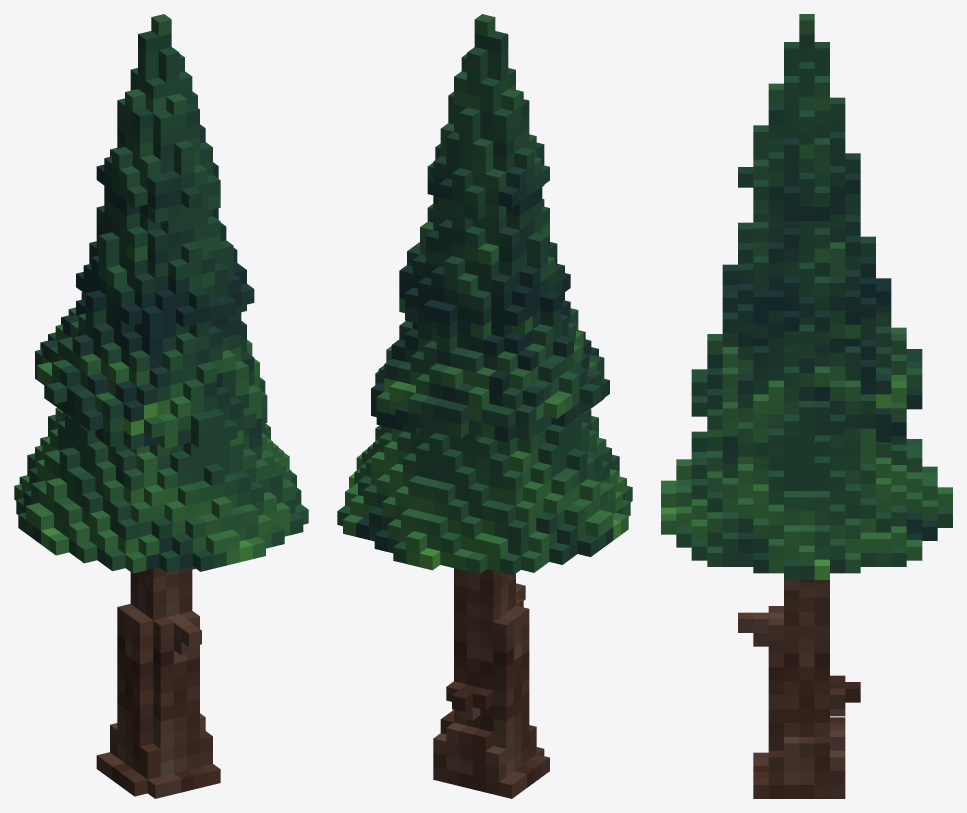
The model's file is Conifer4.fbx.
The picture shows the model from 3 angles, left to right: view 1: azimuth 30°, elevation 25°; view 2: azimuth 150°, elevation 25°; view 3: azimuth 270°, elevation 25°; orthographic projection.
Parts seen in each view (by area): view 1: Conifer4; view 2: Conifer4; view 3: Conifer4.
Part boxes in pixels (x1=…): Conifer4: x1=14, y1=14, x2=308, y2=798; Conifer4: x1=337, y1=14, x2=632, y2=798; Conifer4: x1=661, y1=14, x2=952, y2=798.
Size of the model in its own units: 1.9 by 5.5 by 1.9.
